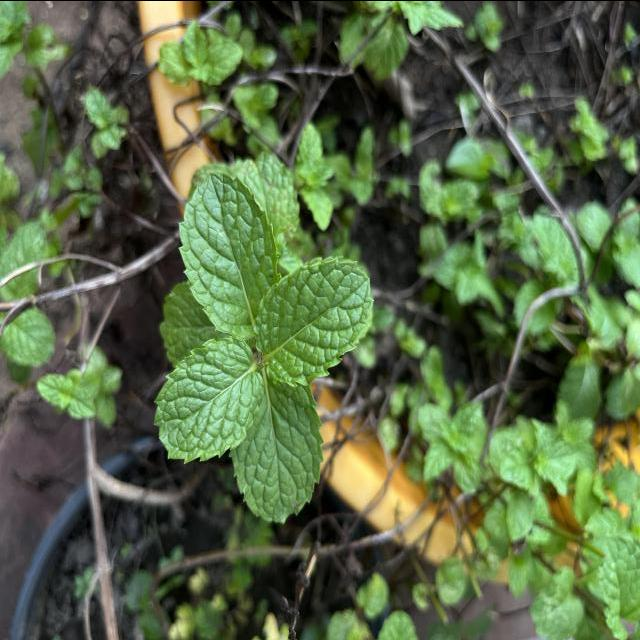Mentha spicata: (178, 171, 282, 341), (250, 255, 376, 388), (152, 334, 266, 464), (227, 383, 326, 526)
